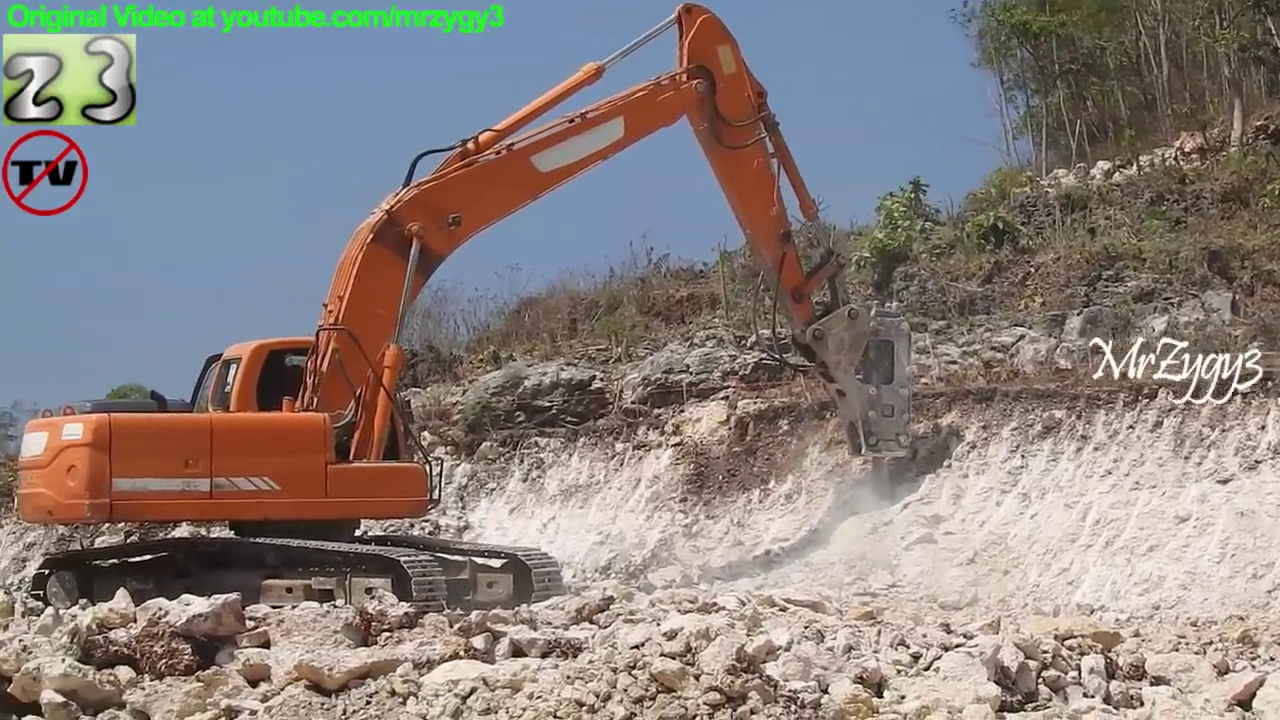excavator: (13, 3, 915, 624)
